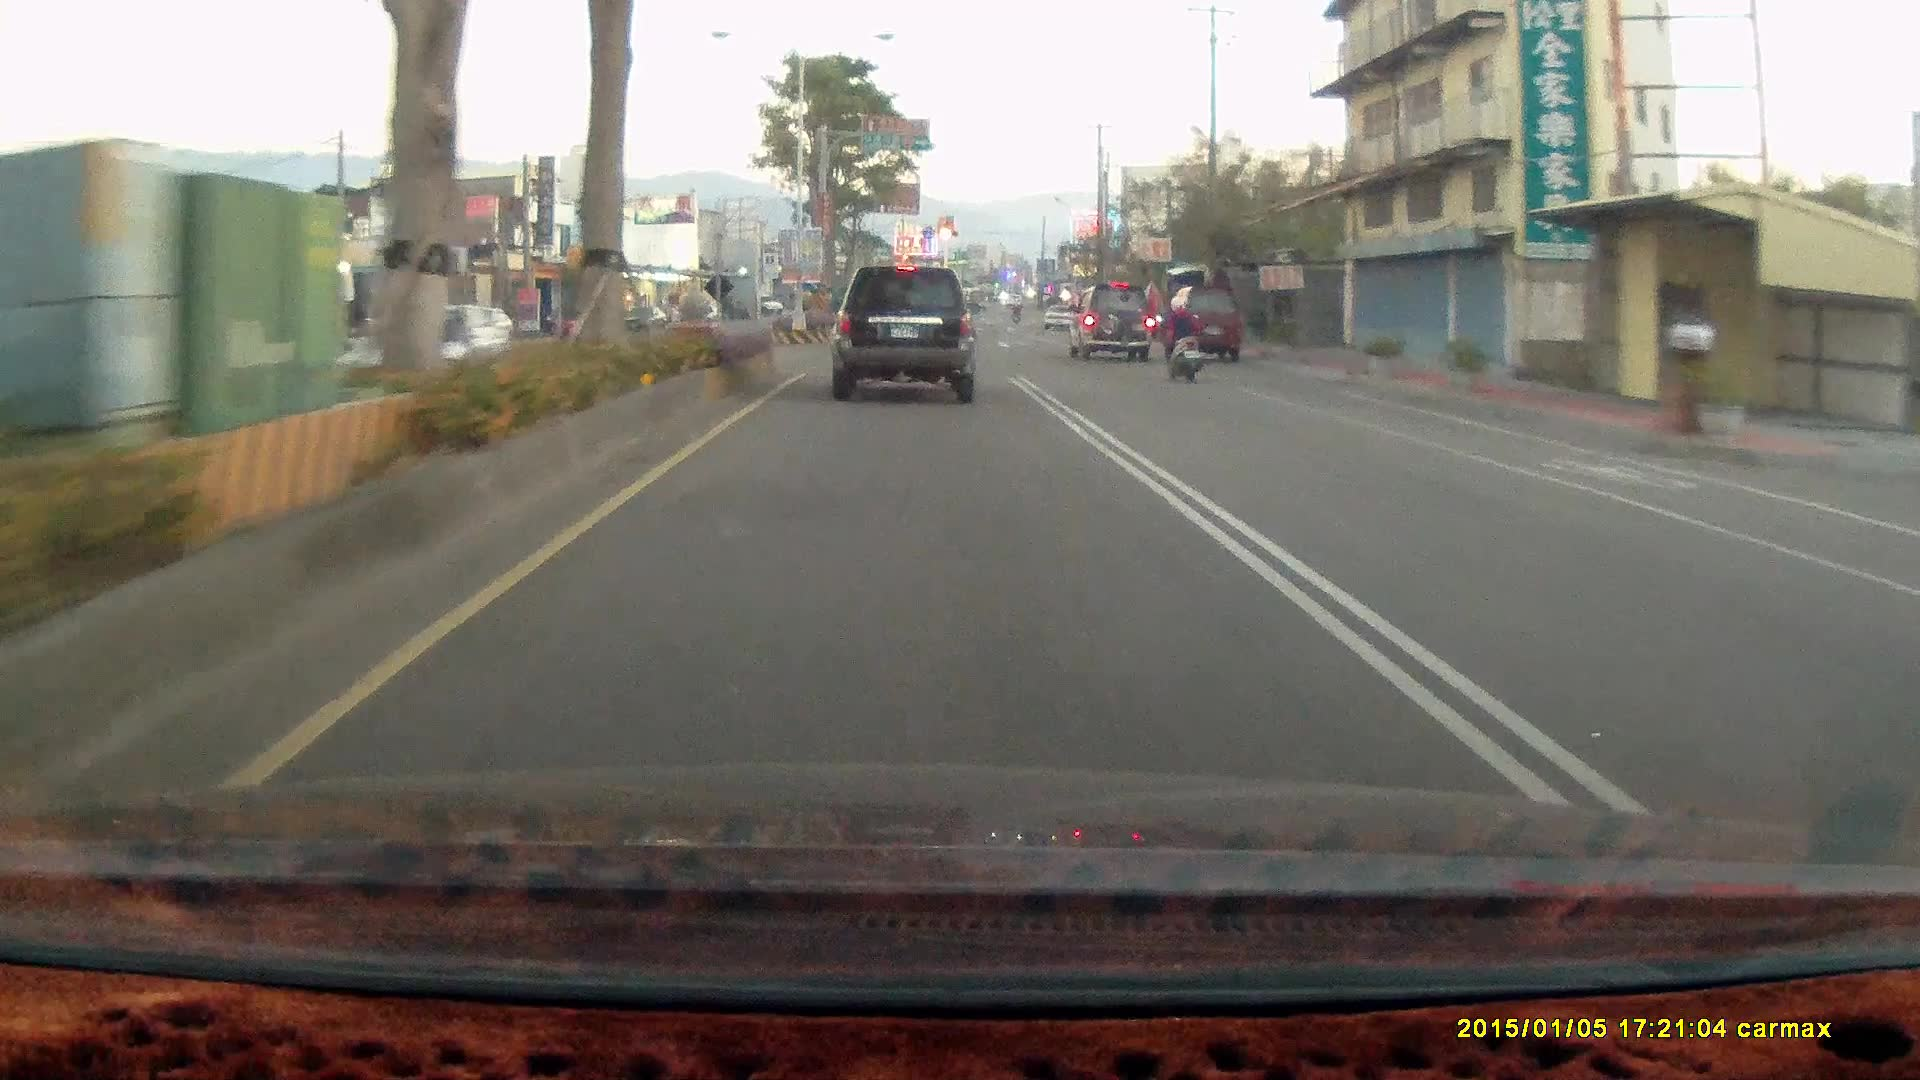rider: (1148, 282, 1212, 393), (1150, 289, 1201, 379)
vehicle: (831, 256, 982, 409), (830, 265, 980, 402), (1073, 280, 1163, 361), (1063, 279, 1152, 357), (1167, 281, 1246, 364), (1167, 280, 1241, 357)
